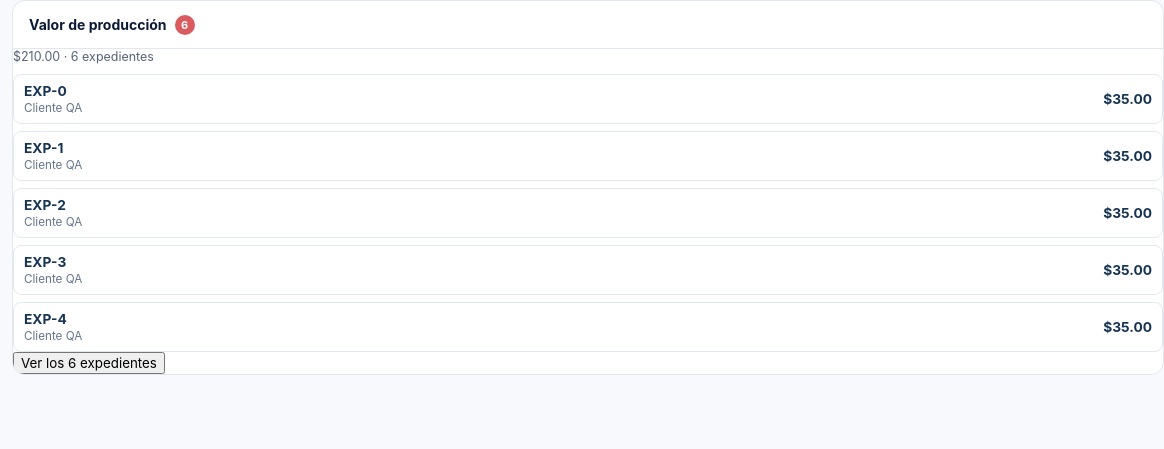
it: Mi Día · fuentes finales sin cifras inventadas › permite desplegar toda la cohorte firmada que compone el valor de producción
Expected: the number of links named "Abrir EXP-" is 5, [13,74,1163,124]; [13,131,1163,181]; [13,188,1163,238]; [13,245,1163,295]; [13,302,1163,352]
Click the button "Ver los 6 expedientes" at {"x": 89, "y": 363}, box [13,352,165,374]
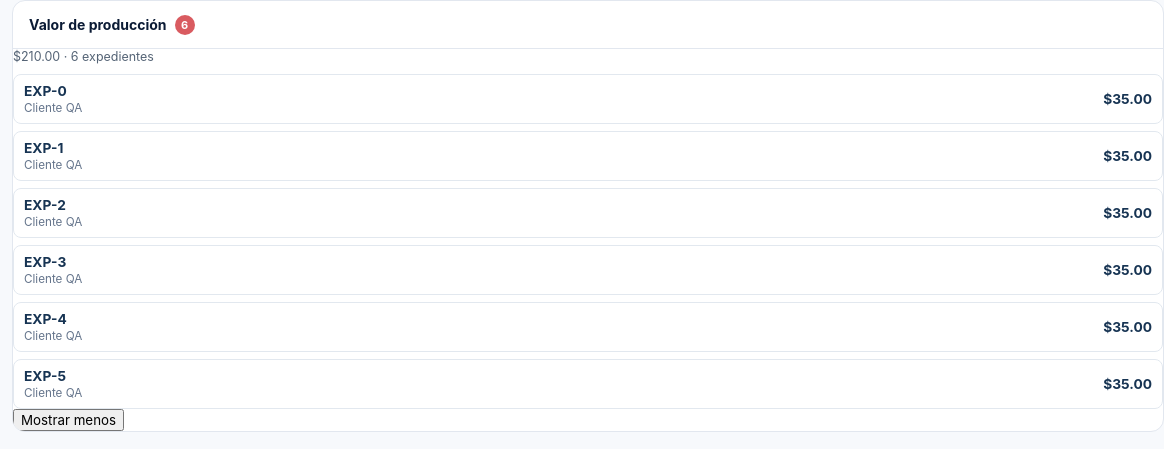
Expected: the number of links named "Abrir EXP-" is 6, [13,74,1163,124]; [13,131,1163,181]; [13,188,1163,238]; [13,245,1163,295]; [13,302,1163,352]; [13,359,1163,409]
